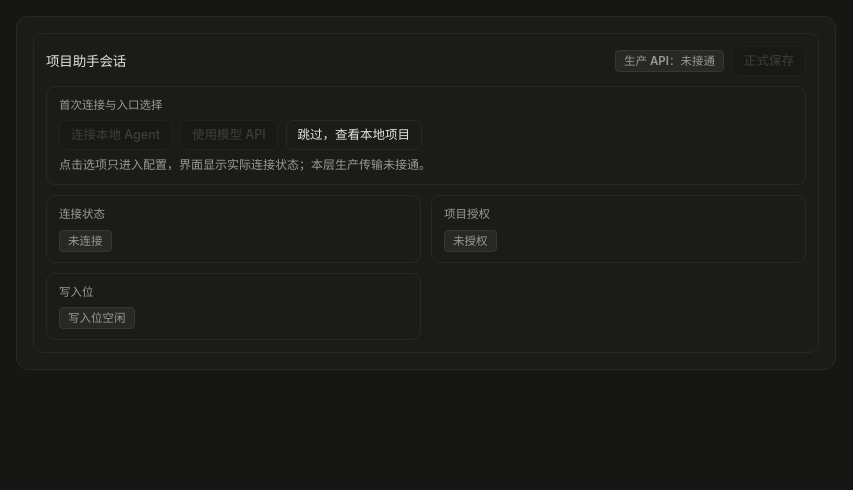
it: ProjectAgentM1Session › handles project switching only when onSelectProject is provided
Later steps or results of the test are not shown.
Click the button "跳过，查看本地项目" at (354, 135), box [286,120,422,150]
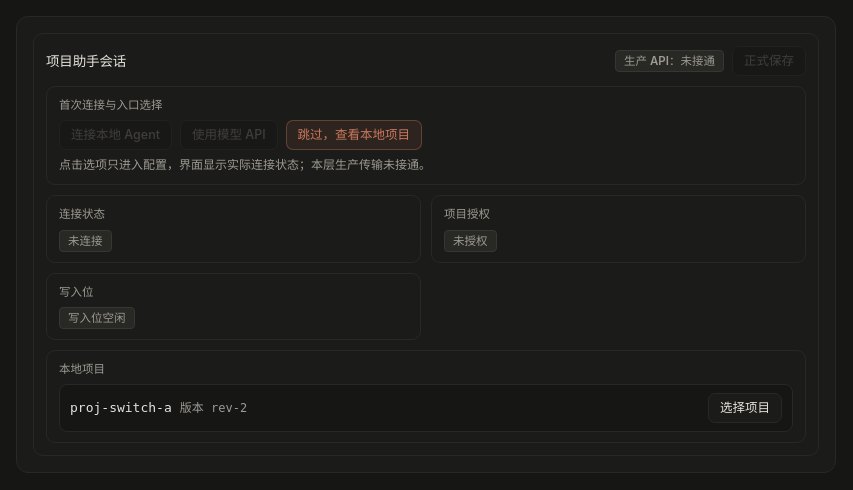
Expected: the button with aria-label "选择项目 proj-switch-a" is enabled, [708,393,782,423]
